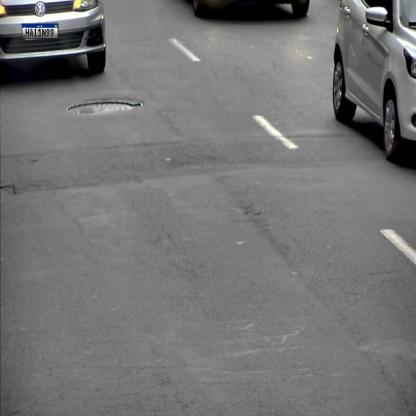PlacaM: (22, 23, 58, 39)
